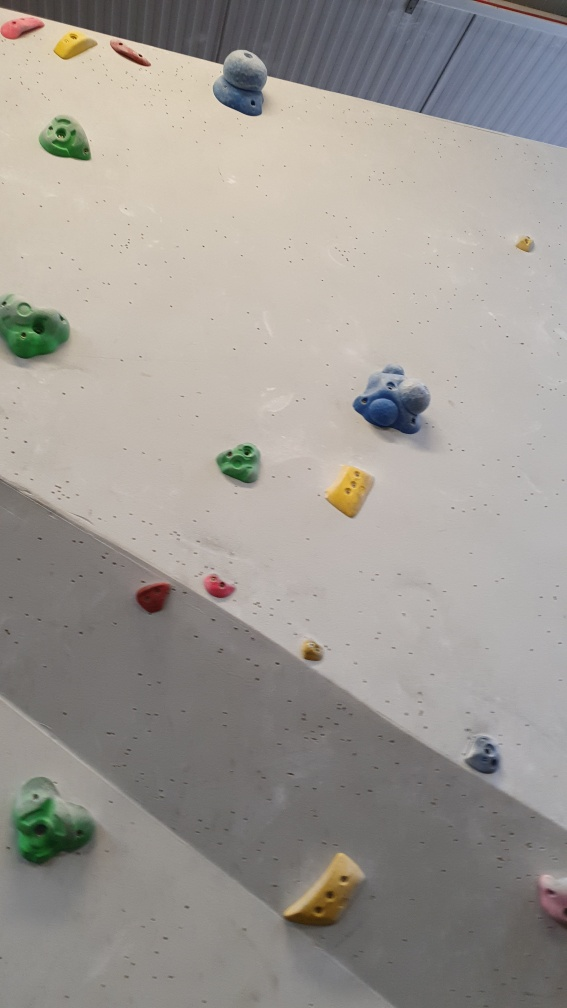Crimp: (284, 847, 368, 938), (328, 462, 384, 522)
Jug: (10, 762, 99, 874), (1, 291, 81, 365), (214, 431, 267, 486), (39, 113, 94, 165)
Pinch: (51, 21, 102, 67)
Sloper: (347, 362, 438, 435), (209, 44, 274, 123)
